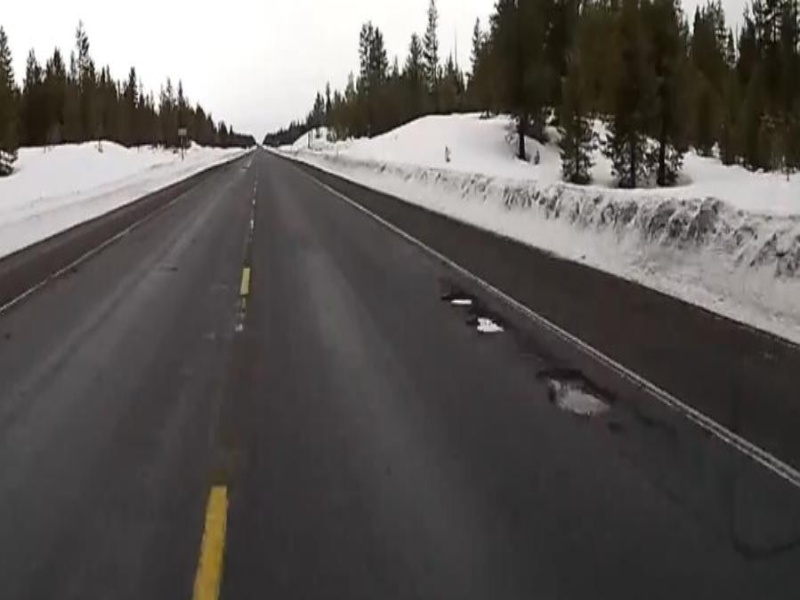pothole: (530, 361, 620, 423), (466, 311, 510, 339), (439, 289, 480, 310)
